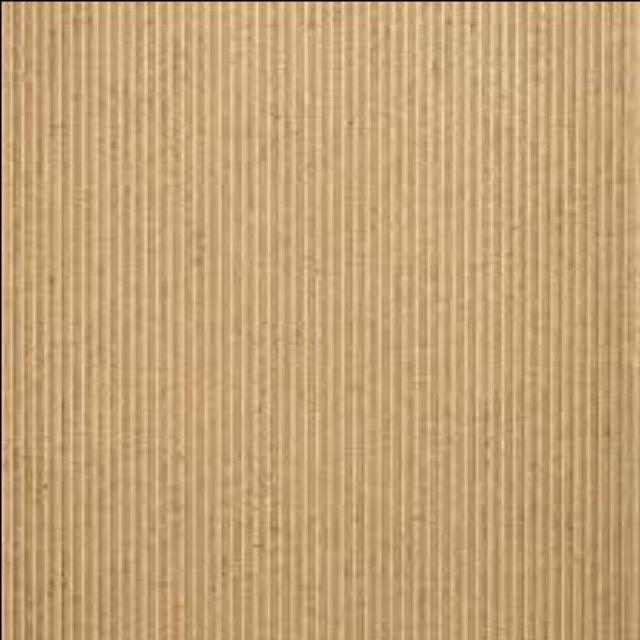CARDBOARD: (1, 1, 637, 637)
